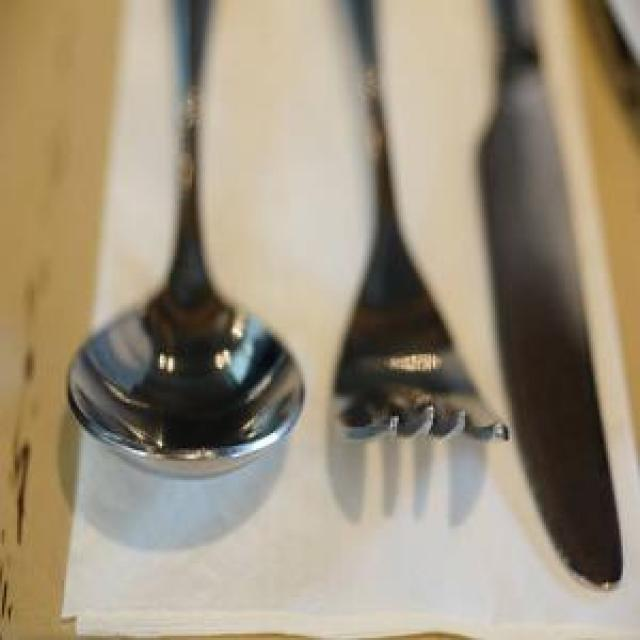knife: (472, 0, 625, 593)
